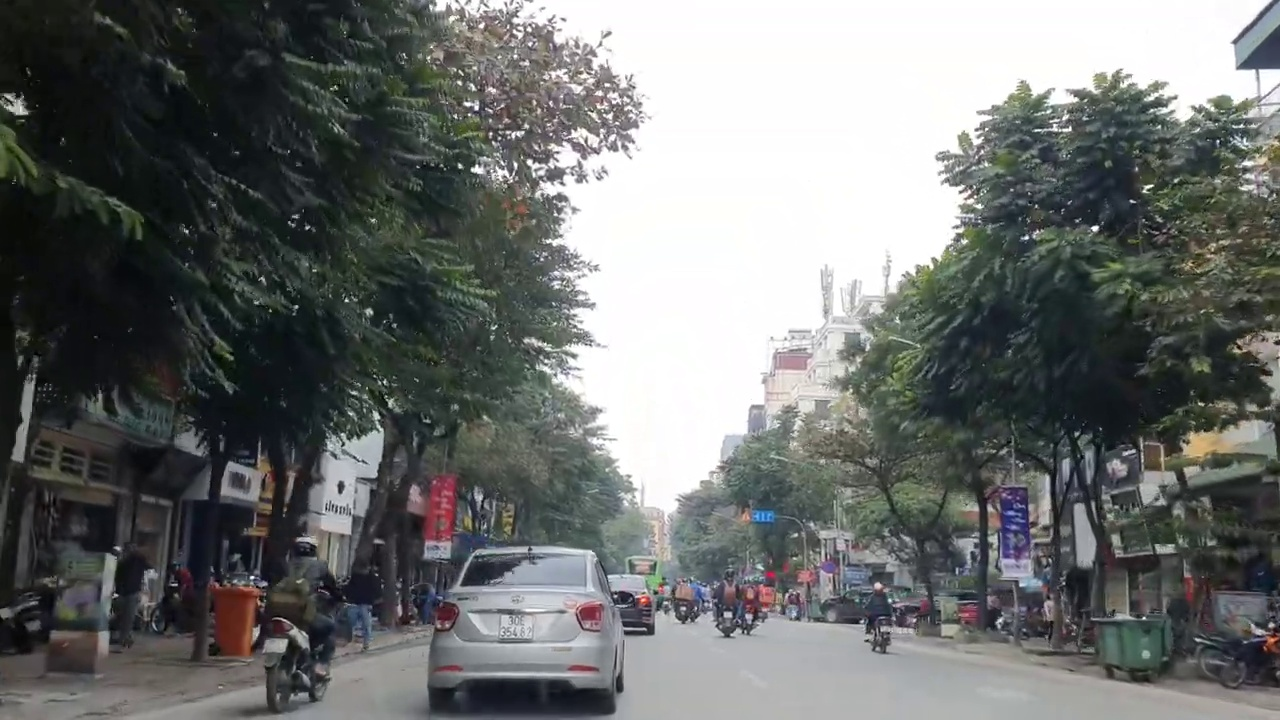person: (258, 634, 289, 654)
